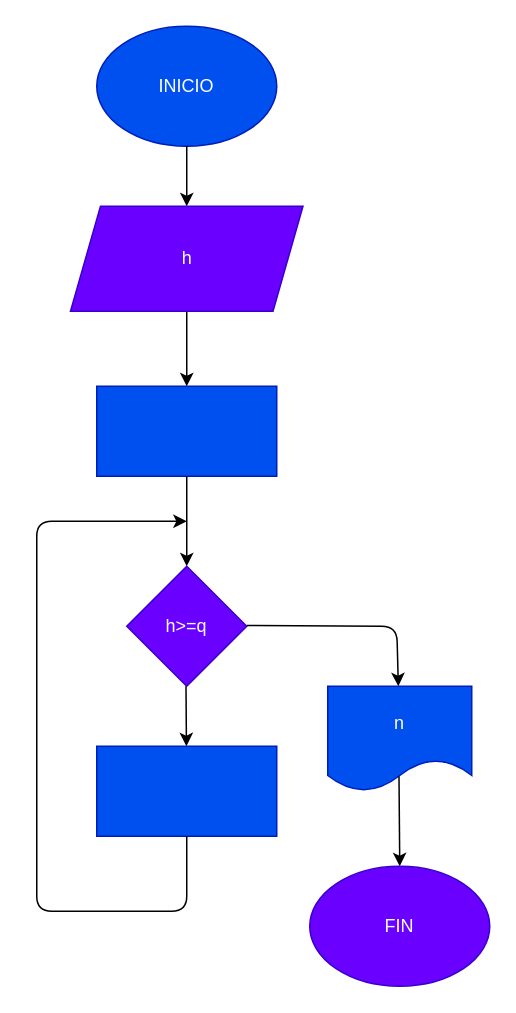
Image size: 516x1013. Some labels were removed from this diagram. The centre of each missing label's shape, as x and y in pixels:
"h=0.9*h n=n + 1" belongs at pixel 186 790.
"q=h/5 n=0" belongs at pixel 186 430.
